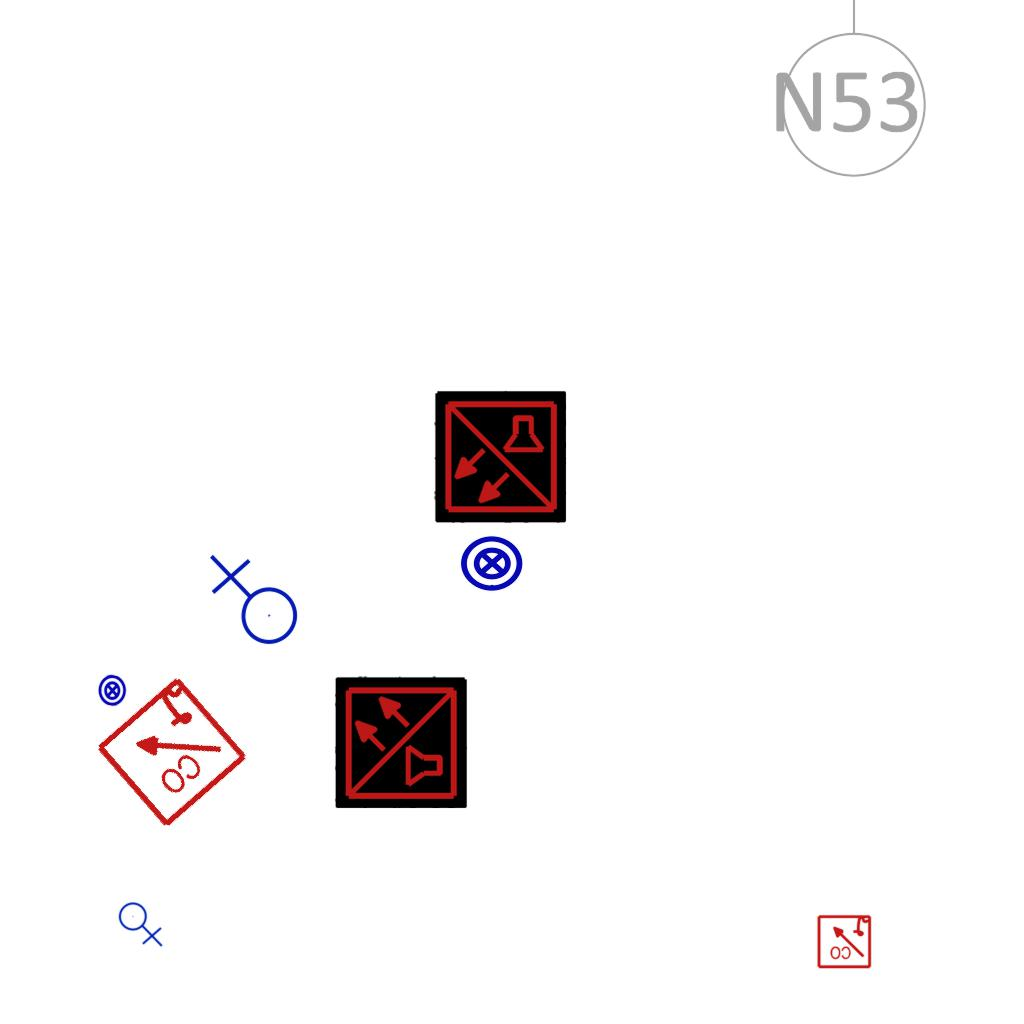Elektroanschluss_allgemein_230V_Geraeteanschlussdose_230V: (205, 554, 299, 653), (118, 898, 165, 947)
OKW_Multisensormelder_(Kombination_optischer_Rauch-Kahlenmonoxid_Waerme-Melder): (434, 391, 566, 523), (335, 676, 467, 808)
ROA_Rauchmelder_optisch_mit_Signalgeber_(Sockelsirene): (90, 671, 251, 832), (816, 913, 872, 969)
Taster_beleuchtet: (459, 530, 525, 596), (95, 673, 130, 708)
